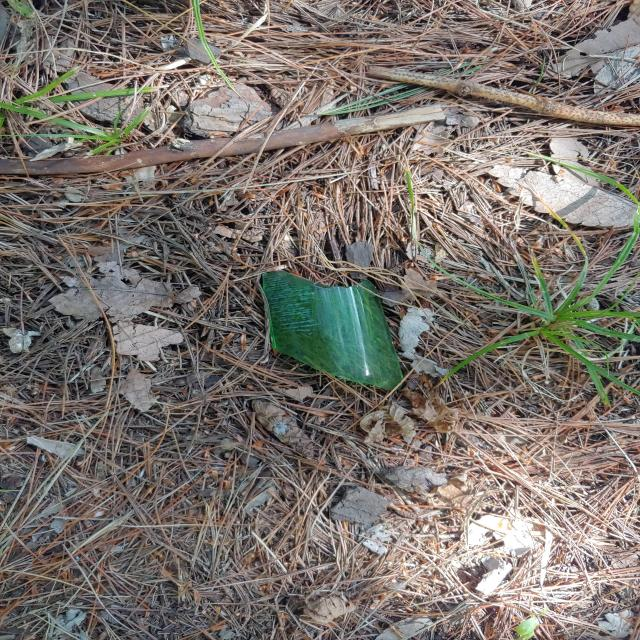litter: (257, 270, 402, 388)
